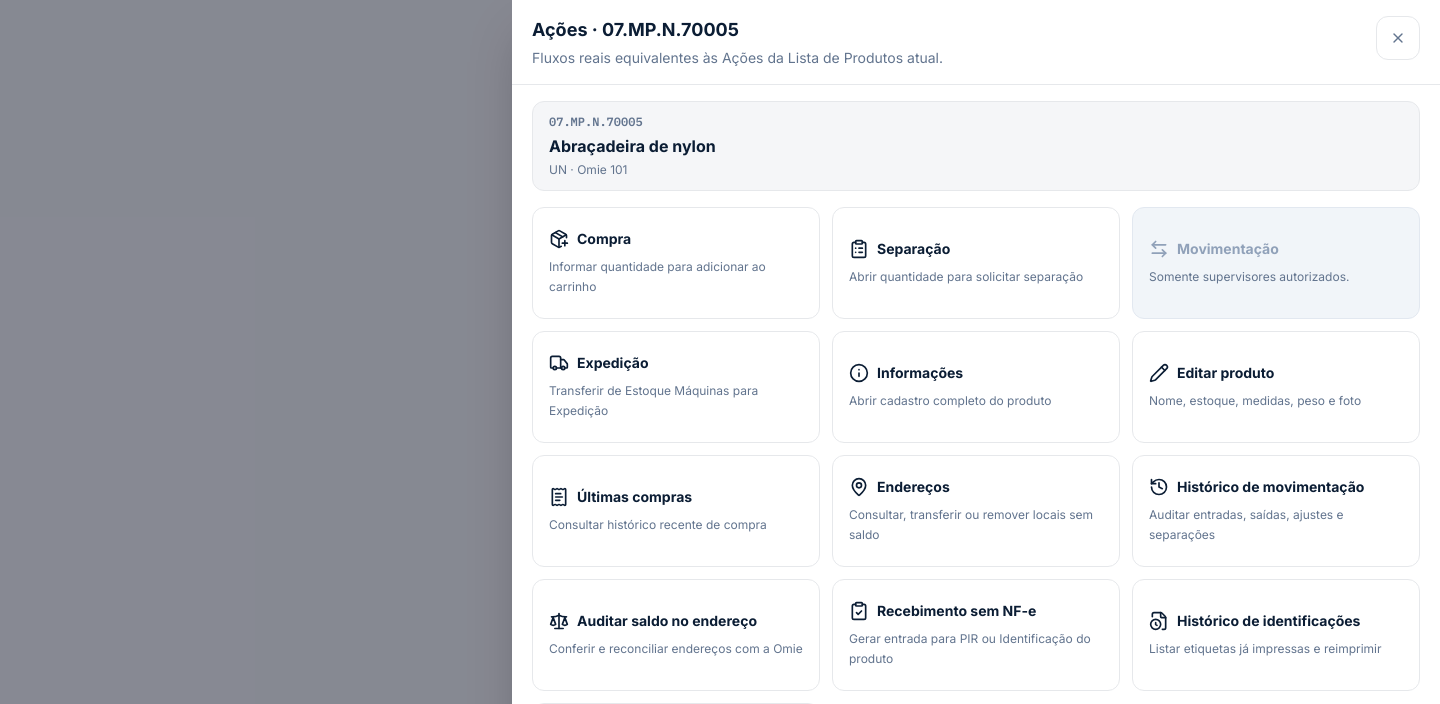
Scenario: ProductActionsPanel › carrega o múltiplo real e registra a separação
Click the button "Separação Abrir quantidade para solicitar separação" at x=914, y=248, box 832,207 -> 1120,319
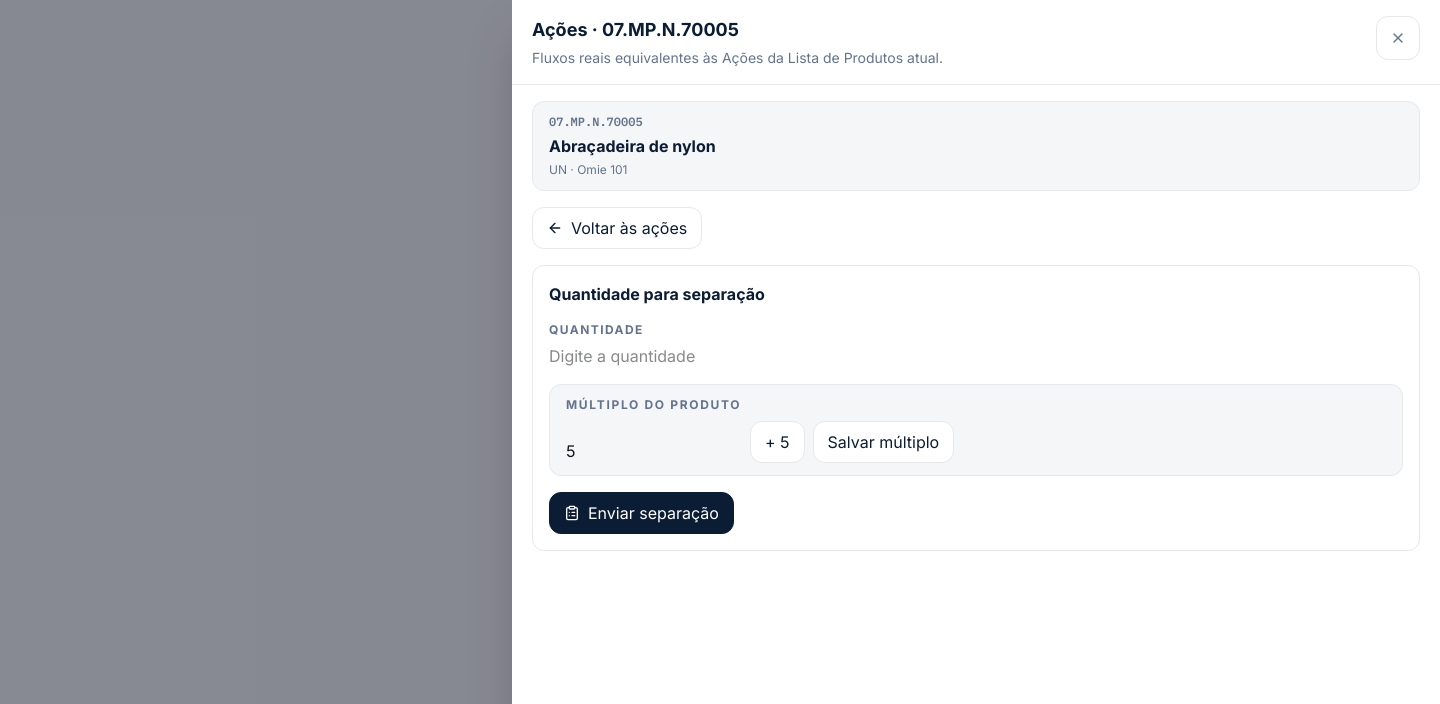
Expected: the number field showing "5" is shown, 566,439 -> 742,463
Type "10" into the number field labelled "Quantidade" at x=666, y=356, box 549,344 -> 783,368
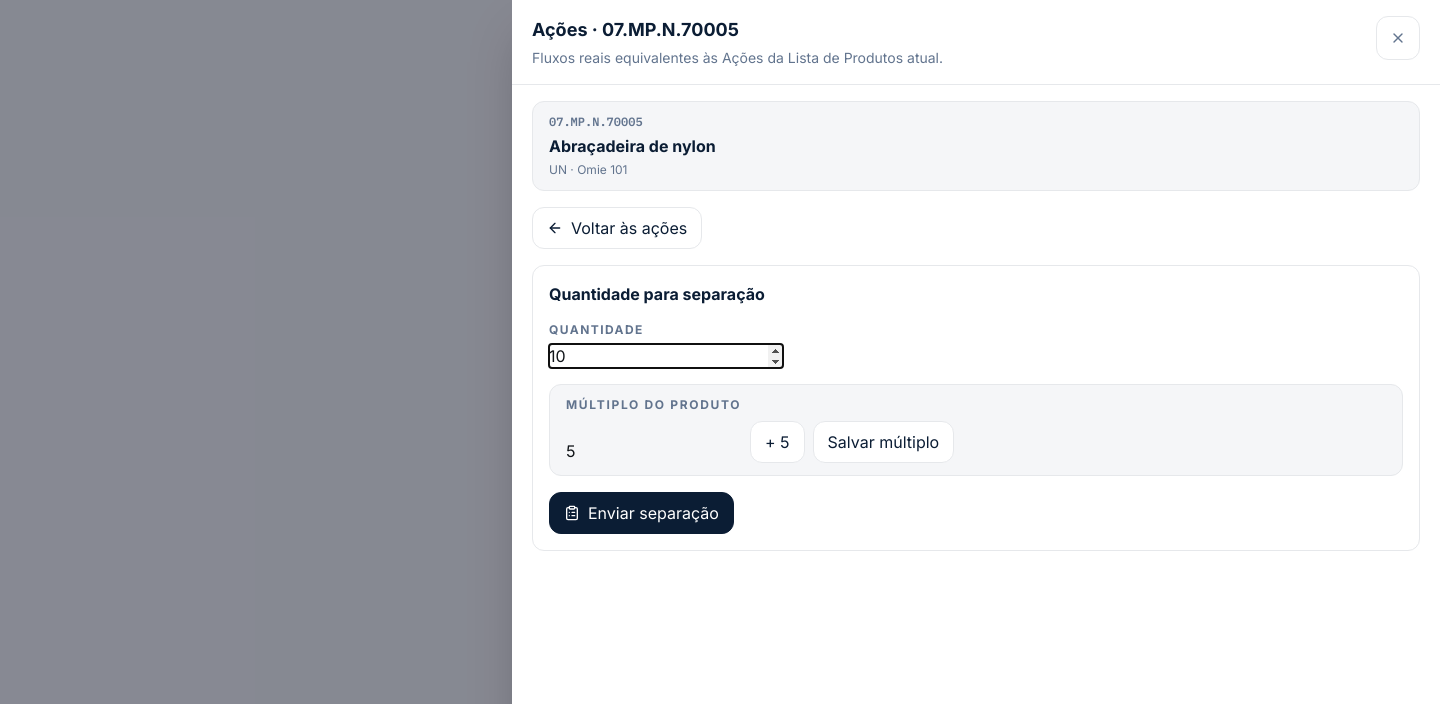
Click the button "Enviar separação" at x=641, y=513, box 549,492 -> 734,534
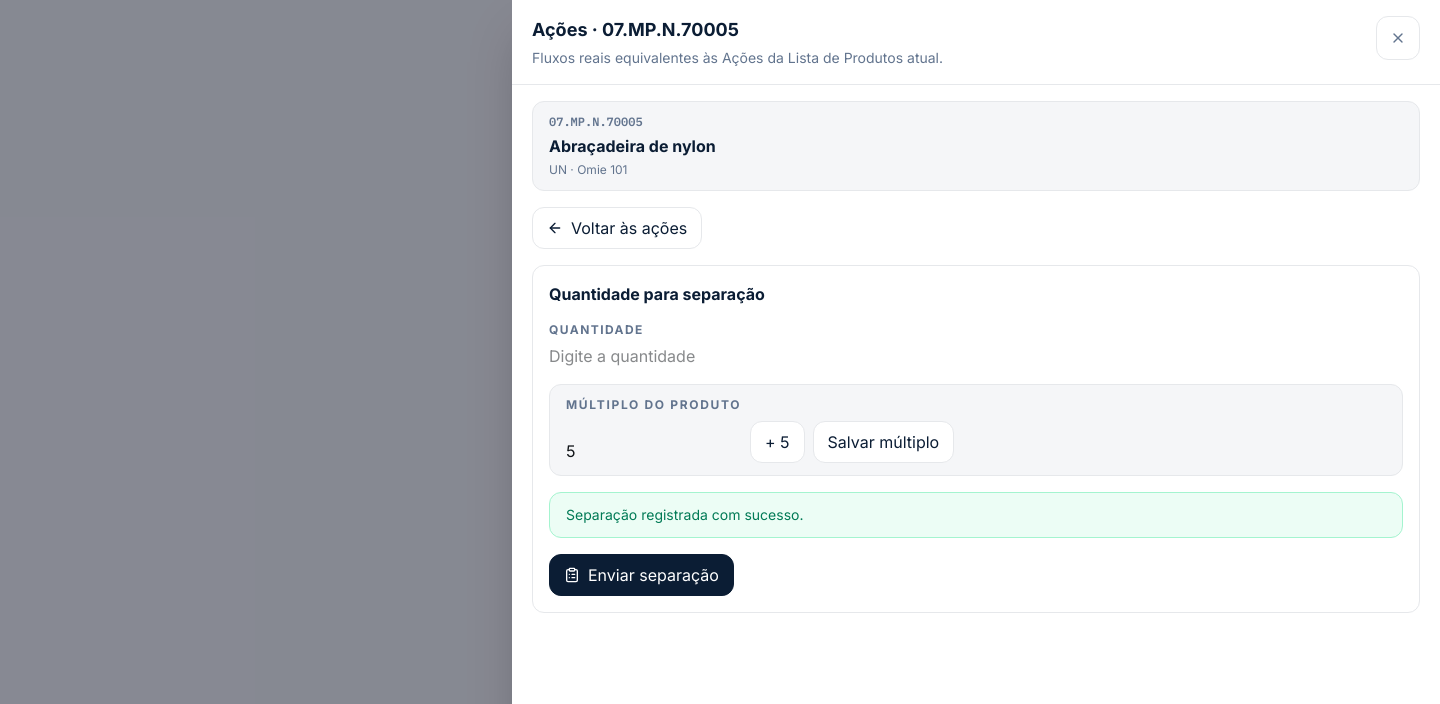
Expected: the text "Separação registrada com sucesso." is shown, 549,492 -> 1403,538
